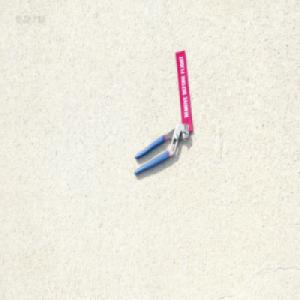Label: (175, 50, 194, 132)
Pliers: (134, 121, 190, 176)
